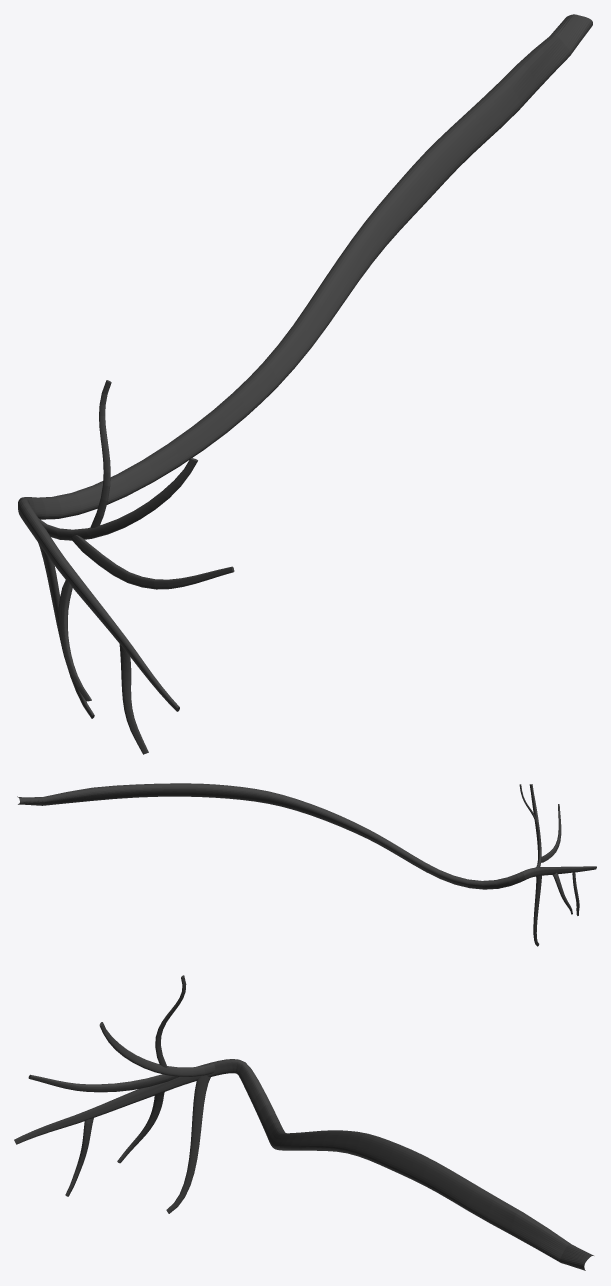
The model's file is N_5_trigeminus_ophthalmic_nasociliary_infratrochlear.glb.
3 views of the same model, one above another, from view 1: azimuth 30°, elevation 25°; view 2: azimuth 150°, elevation 25°; view 3: azimuth 270°, elevation 25° (orthographic). The views are drawn at different scales.
Parts seen in each view (by area): view 1: N_5_trigeminus_ophthalmic_nasociliary_infratrochlear; view 2: N_5_trigeminus_ophthalmic_nasociliary_infratrochlear; view 3: N_5_trigeminus_ophthalmic_nasociliary_infratrochlear.
Boxes of the visible parts, x1,y1,x2,y2 form: N_5_trigeminus_ophthalmic_nasociliary_infratrochlear: (18,14,592,754); N_5_trigeminus_ophthalmic_nasociliary_infratrochlear: (17,783,596,946); N_5_trigeminus_ophthalmic_nasociliary_infratrochlear: (14,975,593,1270).
Bounding box in the file's own units: 0.0186 × 0.00706 × 0.015.
Materials: 1 (1 with a texture image).
